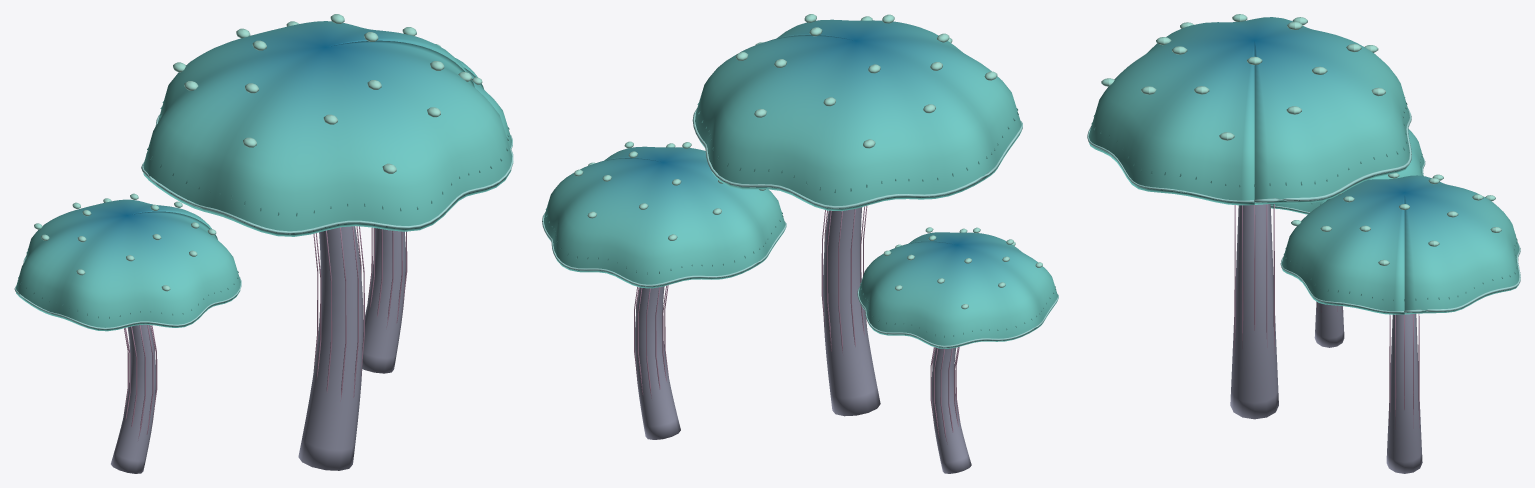
Rendered from enchanted-glowcap.glb.
3 views of the same model, side by side, from view 1: azimuth 30°, elevation 25°; view 2: azimuth 150°, elevation 25°; view 3: azimuth 270°, elevation 25° (orthographic). The views are drawn at different scales.
Visible parts, largest first — view 1: enchanted-glowcap-sculpted-details; view 2: enchanted-glowcap-sculpted-details; view 3: enchanted-glowcap-sculpted-details.
Part boxes in pixels (x1,y1,x2,y2): enchanted-glowcap-sculpted-details: [14, 14, 513, 473]; enchanted-glowcap-sculpted-details: [542, 14, 1058, 473]; enchanted-glowcap-sculpted-details: [1087, 14, 1520, 473].
Size of the model in its own units: 1.26 by 1 by 1.06.
